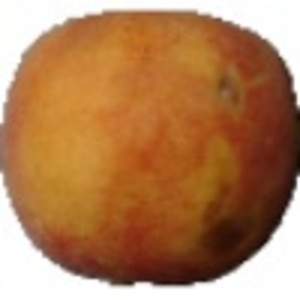pêssego: (1, 8, 300, 289)
